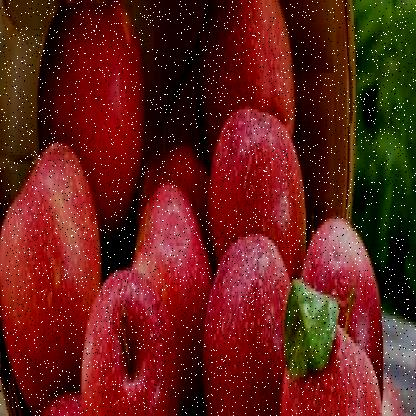apple: (34, 15, 143, 237), (2, 148, 95, 392), (132, 173, 220, 389), (216, 106, 312, 286), (193, 16, 305, 158), (300, 204, 386, 376), (204, 234, 286, 413), (80, 270, 173, 413)
